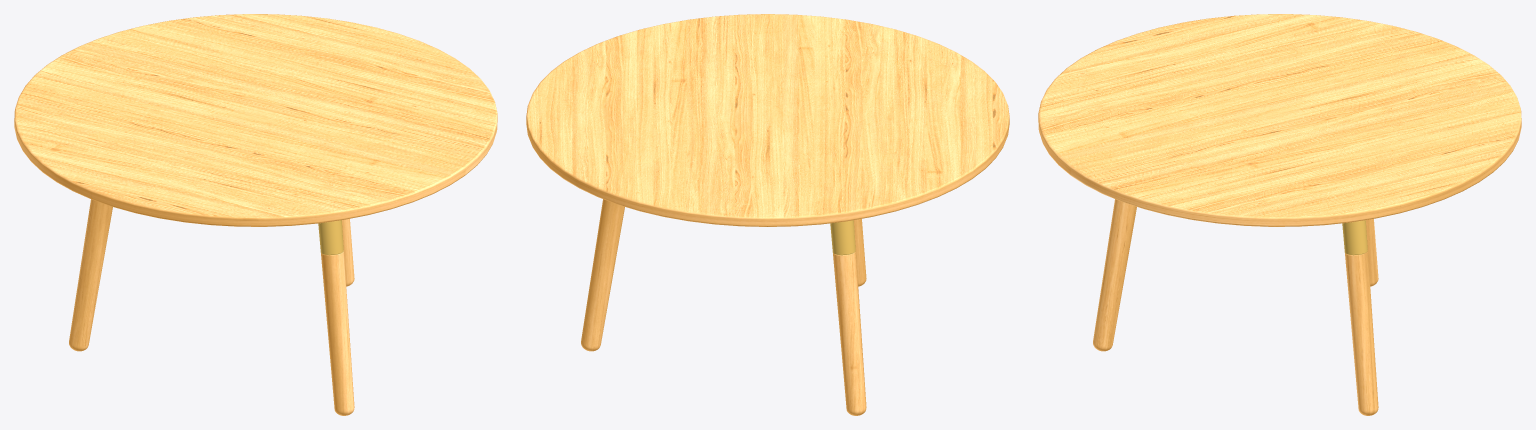
File: round_range_coffee_table_oak_and_brass.glb
The picture shows the model from 3 angles, left to right: view 1: azimuth 30°, elevation 25°; view 2: azimuth 150°, elevation 25°; view 3: azimuth 270°, elevation 25°; orthographic projection.
Parts seen in each view (by area): view 1: DARK_STAINED_OAK, BRASS; view 2: DARK_STAINED_OAK, BRASS; view 3: DARK_STAINED_OAK, BRASS.
Boxes of the visible parts, <box> form: DARK_STAINED_OAK: <box>14,14,497,415</box>; BRASS: <box>318,220,343,255</box>; DARK_STAINED_OAK: <box>526,14,1009,415</box>; BRASS: <box>830,220,855,255</box>; DARK_STAINED_OAK: <box>1038,14,1521,415</box>; BRASS: <box>1342,220,1367,255</box>.
Size of what is drawn, in the model's own units: 79.94 by 42.87 by 79.94.
2 materials, 1 textured.
